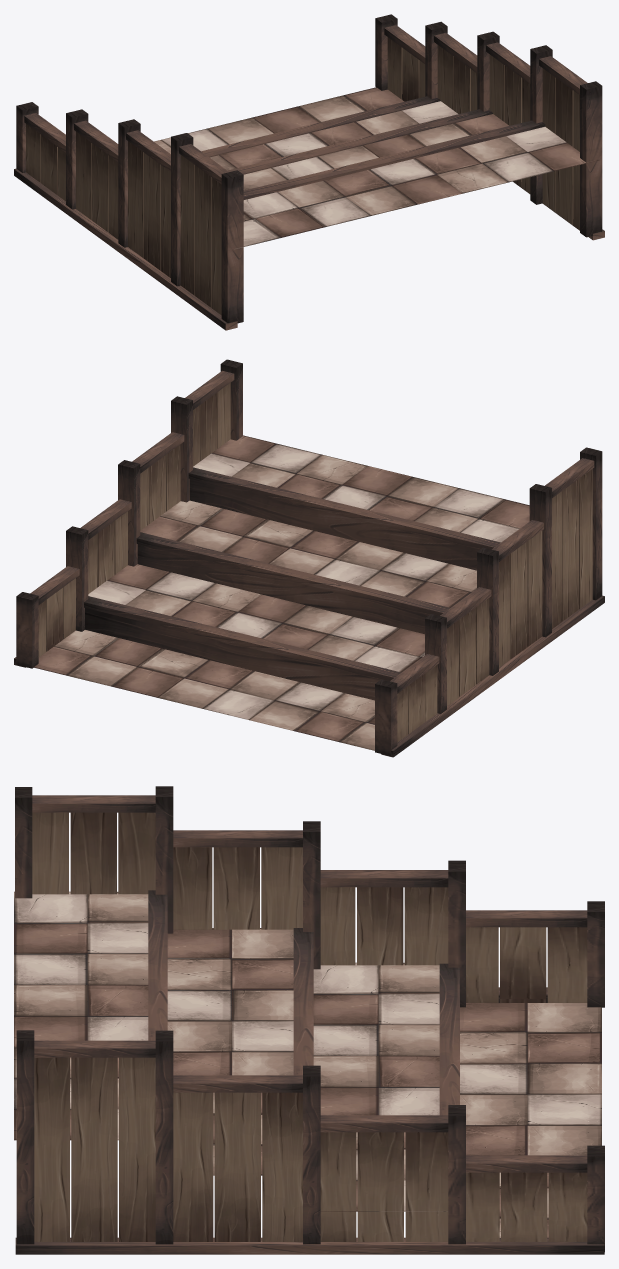
File: Straight3_wall.fbx
3 views of the same model, one above another, from view 1: azimuth 30°, elevation 25°; view 2: azimuth 150°, elevation 25°; view 3: azimuth 270°, elevation 25° (orthographic). The views are drawn at different scales.
Parts seen in each view (by area): view 1: Straight3_wall; view 2: Straight3_wall; view 3: Straight3_wall.
Boxes of the visible parts, left/top/right/bottom form: Straight3_wall: left=14, top=14, right=604, bottom=330; Straight3_wall: left=14, top=359, right=604, bottom=757; Straight3_wall: left=14, top=786, right=604, bottom=1254.
Size of the model in its own units: 0.6275 by 0.24 by 0.6061.
